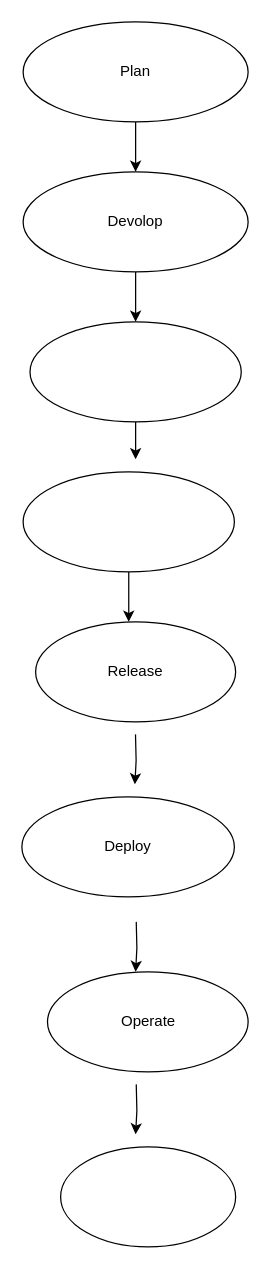
This 270x1269 diagram has some shape labels left out. The centre of each missing label's shape, as x and y in pixels:
"Build" goes at (x=135, y=371).
"Test" goes at (x=128, y=521).
